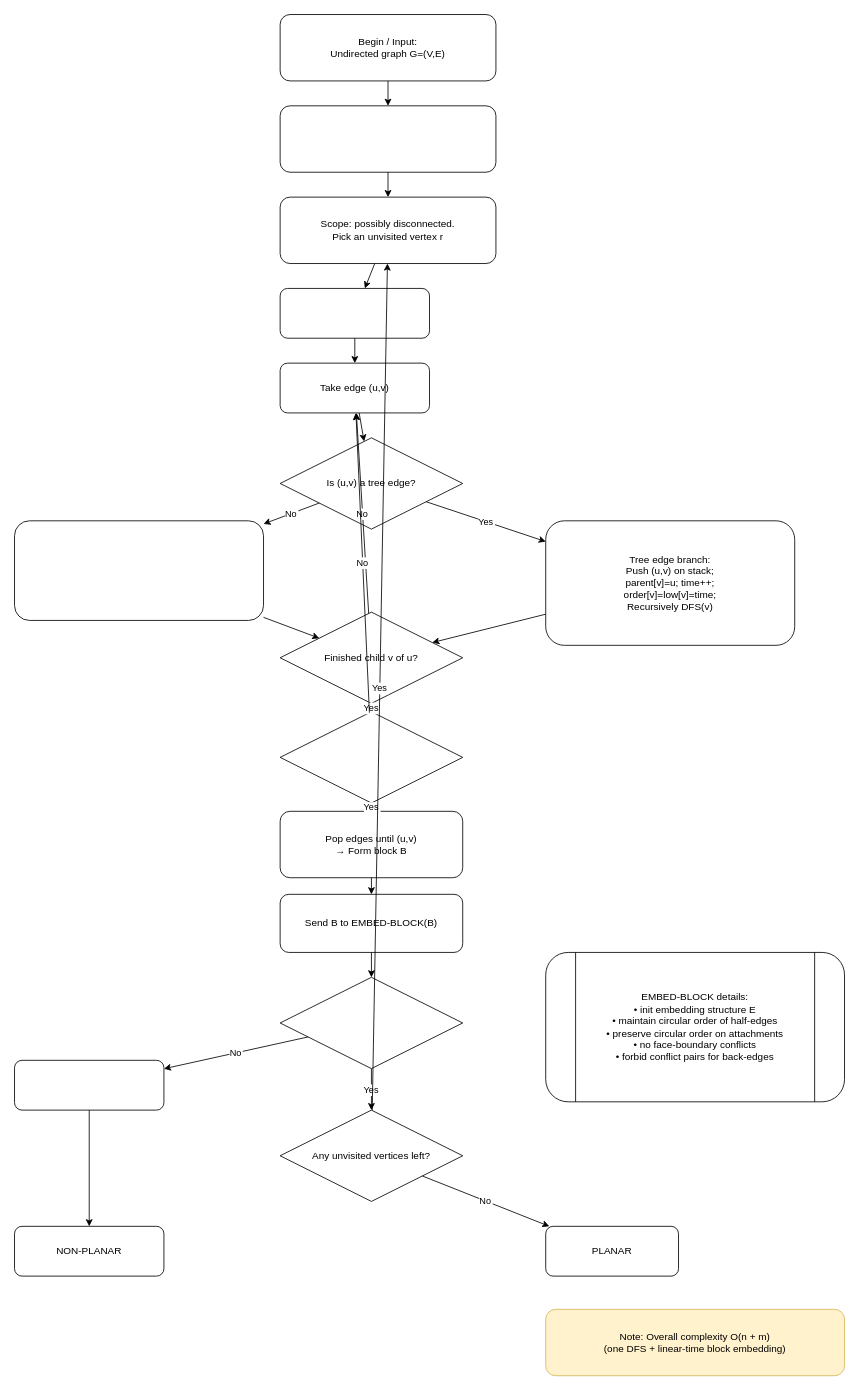
The diagram is 859 pixels wide and 1390 high, and some of its shapes have lost their labels. Here are the shapes that lost their labels. From the top down, the box of each, then its label:
(279, 105, 496, 172): Initialize: order[], low[], parent[]; stack=∅; time=0; planar=true
(279, 288, 430, 338): DFS(r)
(14, 520, 264, 620): Back-edge/ancestor branch: Push (u,v) on stack; low[u] = min(low[u], order[v])
(279, 711, 463, 803): Closing rule: low[v] ≥ order[u] ?
(279, 976, 463, 1069): EMBED-BLOCK(B) succeeds?
(14, 1059, 164, 1110): planar = false
